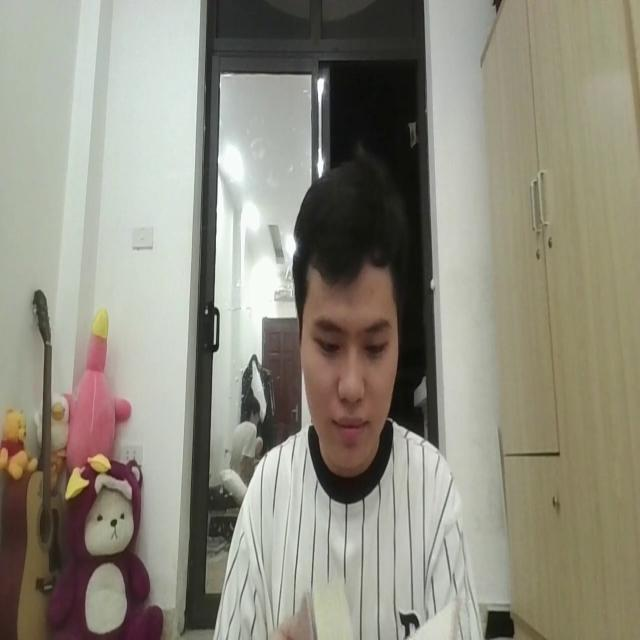student: (215, 144, 483, 640)
